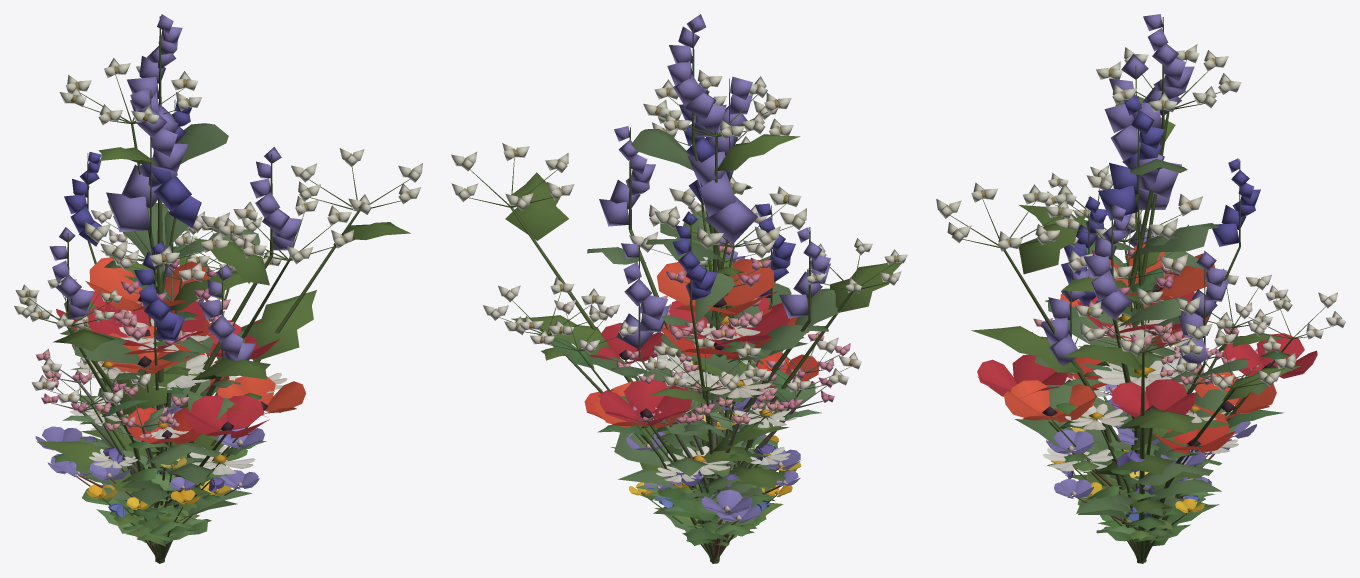
Rendered from flowers.glb.
3 views of the same model, side by side, from view 1: azimuth 30°, elevation 25°; view 2: azimuth 150°, elevation 25°; view 3: azimuth 270°, elevation 25° (orthographic). The views are drawn at different scales.
Visible parts, largest first — view 1: wild_carrot_2_detail, blue_lupine_1_detail, blue_lupine_0_detail, scarlet_poppy_1_detail, blue_lupine_2_detail, scarlet_poppy_2_detail, wild_carrot_0_detail, wild_carrot_1_detail, meadow_cranesbill_2_detail, oxeye_daisy_2_detail, pink_yarrow_2_detail, scarlet_poppy_0_detail (+8 smaller); view 2: wild_carrot_2_detail, blue_lupine_1_detail, wild_carrot_0_detail, blue_lupine_2_detail, scarlet_poppy_1_detail, blue_lupine_0_detail, wild_carrot_1_detail, scarlet_poppy_2_detail, pink_yarrow_0_detail, pink_yarrow_2_detail, meadow_cranesbill_0_detail, oxeye_daisy_2_detail (+8 smaller); view 3: wild_carrot_2_detail, blue_lupine_1_detail, scarlet_poppy_1_detail, blue_lupine_2_detail, wild_carrot_0_detail, blue_lupine_0_detail, scarlet_poppy_2_detail, wild_carrot_1_detail, meadow_cranesbill_0_detail, oxeye_daisy_0_detail, scarlet_poppy_0_detail, oxeye_daisy_2_detail (+6 smaller).
Part boxes in pixels (x1,y1,x2,y2): wild_carrot_2_detail: (14, 58, 422, 557); blue_lupine_1_detail: (49, 14, 301, 563); blue_lupine_0_detail: (64, 100, 210, 484); scarlet_poppy_1_detail: (56, 291, 279, 559); blue_lupine_2_detail: (101, 88, 255, 504); scarlet_poppy_2_detail: (85, 257, 306, 543); wild_carrot_0_detail: (19, 200, 282, 504); wild_carrot_1_detail: (31, 210, 256, 519); meadow_cranesbill_2_detail: (47, 454, 259, 540); oxeye_daisy_2_detail: (69, 354, 255, 528); pink_yarrow_2_detail: (36, 302, 224, 515); scarlet_poppy_0_detail: (89, 306, 230, 547); wild_carrot_2_detail: (451, 70, 907, 488); blue_lupine_1_detail: (587, 14, 840, 563); wild_carrot_0_detail: (483, 176, 806, 558); blue_lupine_2_detail: (611, 76, 772, 495); scarlet_poppy_1_detail: (590, 297, 805, 560); blue_lupine_0_detail: (643, 84, 795, 496); wild_carrot_1_detail: (519, 200, 861, 557); scarlet_poppy_2_detail: (593, 258, 809, 520); pink_yarrow_0_detail: (632, 243, 834, 563); pink_yarrow_2_detail: (617, 304, 850, 556); meadow_cranesbill_0_detail: (626, 378, 779, 558); oxeye_daisy_2_detail: (657, 354, 797, 525); wild_carrot_2_detail: (936, 44, 1241, 561); blue_lupine_1_detail: (1042, 14, 1228, 563); scarlet_poppy_1_detail: (977, 291, 1317, 558); blue_lupine_2_detail: (1034, 54, 1249, 504); wild_carrot_0_detail: (1055, 174, 1300, 560); blue_lupine_0_detail: (1045, 95, 1260, 455); scarlet_poppy_2_detail: (1004, 242, 1276, 553); wild_carrot_1_detail: (1068, 210, 1345, 557); meadow_cranesbill_0_detail: (1046, 384, 1256, 531); oxeye_daisy_0_detail: (1055, 302, 1225, 553); scarlet_poppy_0_detail: (1066, 302, 1235, 542); oxeye_daisy_2_detail: (1042, 358, 1184, 511).
Bounding box in the file's own units: 1.09 × 1.32 × 0.8846.
